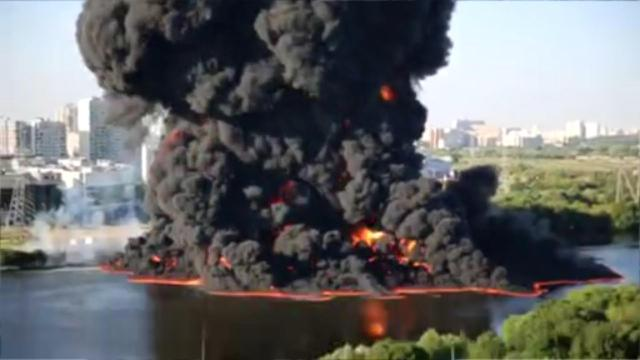fire: (354, 228, 382, 244)
